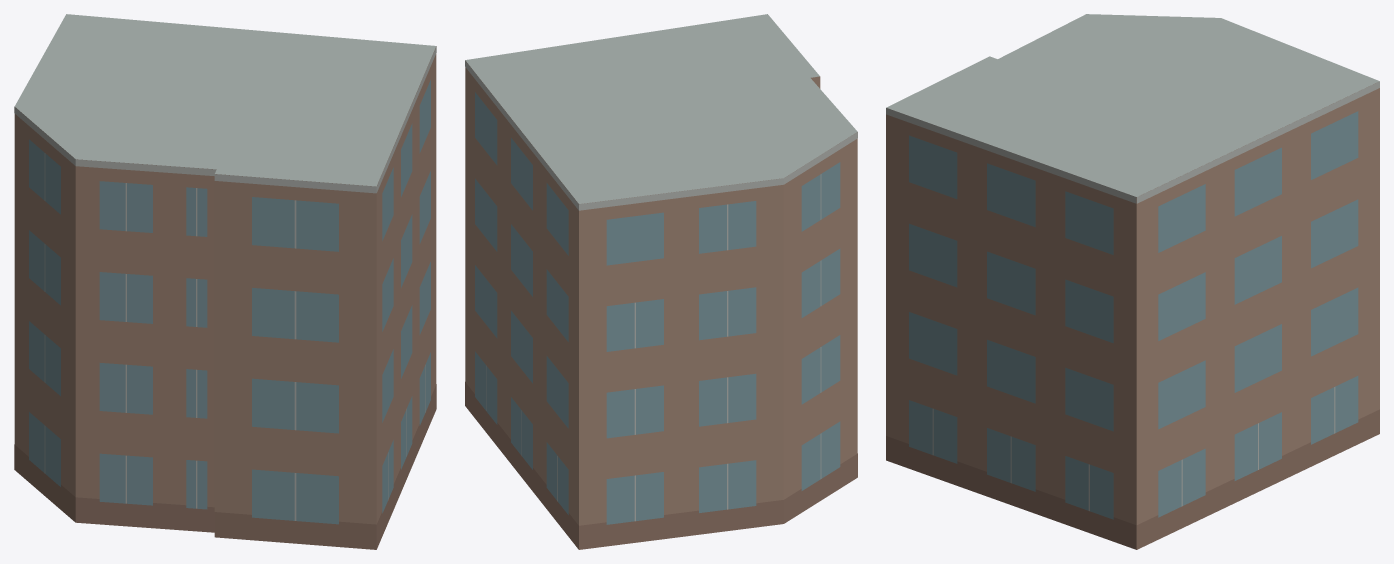
Rendered from survey-upis-32676559.glb.
The picture shows the model from 3 angles, left to right: view 1: azimuth 30°, elevation 25°; view 2: azimuth 150°, elevation 25°; view 3: azimuth 270°, elevation 25°; orthographic projection. The views are drawn at different scales.
Visible parts, largest first — view 1: survey-upis-32676559.tmp; view 2: survey-upis-32676559.tmp; view 3: survey-upis-32676559.tmp.
Boxes of the visible parts, left/top/right/bottom form: survey-upis-32676559.tmp: left=14, top=14, right=436, bottom=549; survey-upis-32676559.tmp: left=465, top=14, right=857, bottom=549; survey-upis-32676559.tmp: left=886, top=14, right=1379, bottom=549.
Size of the model in its own units: 14.26 by 12.8 by 16.25.
